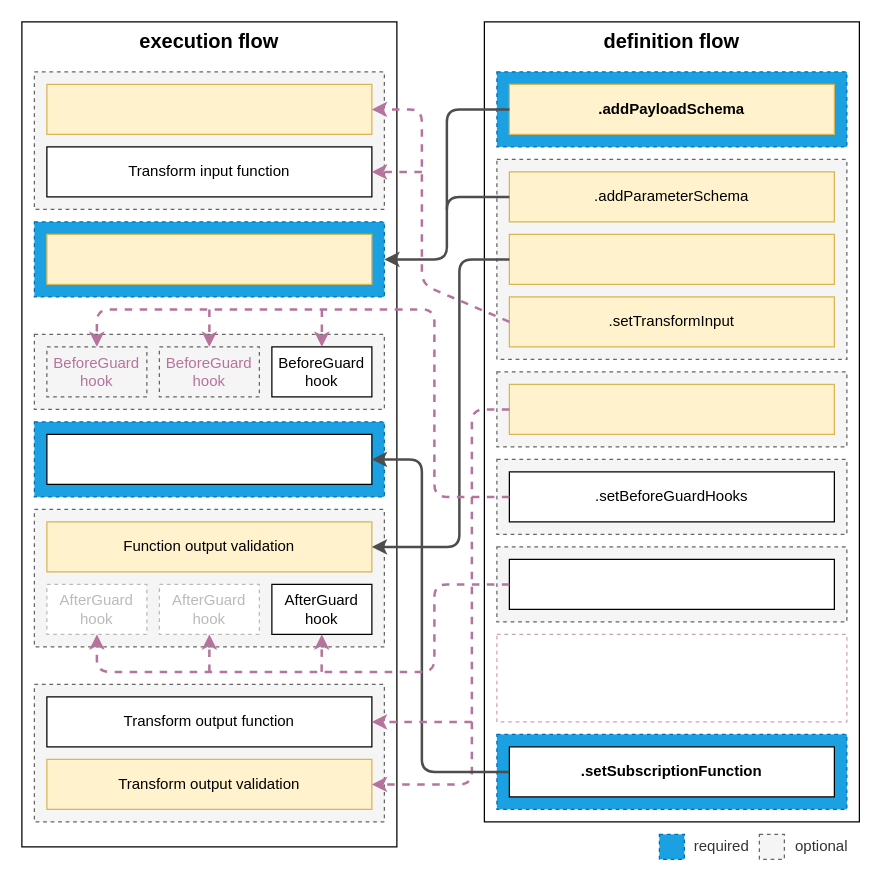
Some shapes in this 881 by 881 pixel diagram are drawn without their labels. Each missing label, with the box of its shape:
.addOutputSchema: (508, 233, 834, 284)
.setBeforeAfterHooks: (508, 558, 834, 609)
.setTransformOutput: (508, 383, 834, 434)
Command function implementation: (46, 433, 372, 484)
Function input validation: (46, 233, 372, 284)
other configurations: (496, 633, 847, 722)
Transform input validation: (46, 83, 372, 134)
